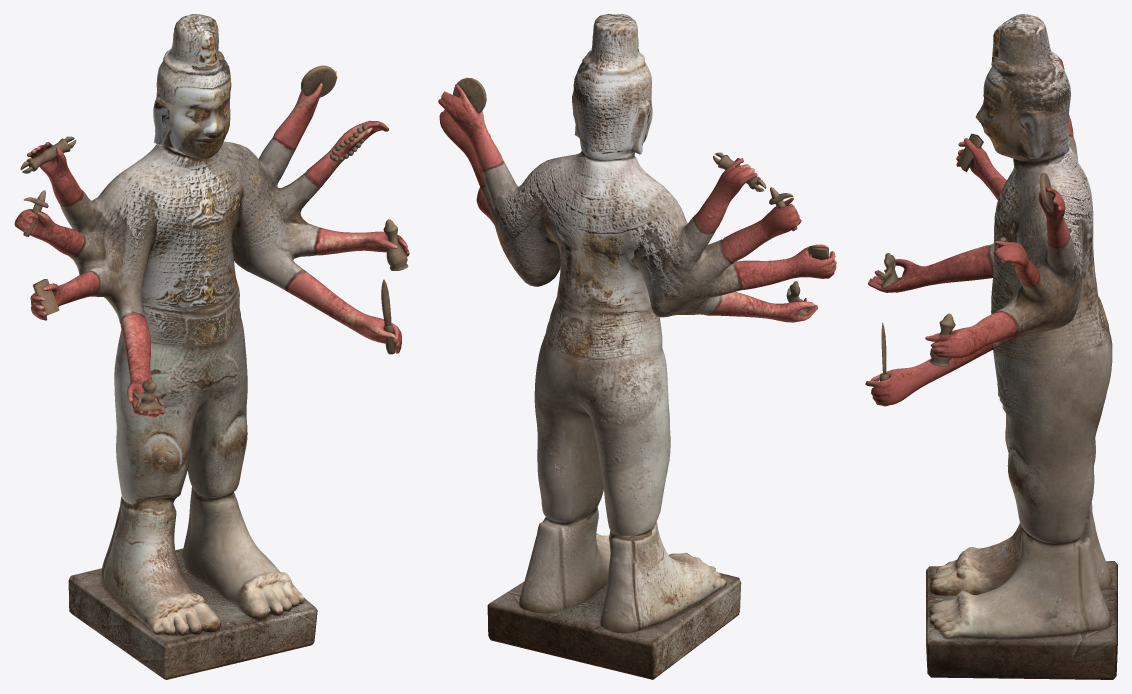
File: Statue_V3.glb
3 renders of one model, left to right at view 1: azimuth 30°, elevation 25°; view 2: azimuth 150°, elevation 25°; view 3: azimuth 270°, elevation 25°, orthographic. The views are drawn at different scales.
Visible parts, largest first — view 1: All1, Base2, Hand; view 2: All1, Base2, Hand; view 3: All1, Base2, Hand.
Part boxes in pixels (x1,y1,x2,y2): All1: (14, 14, 409, 635); Base2: (68, 548, 317, 679); Hand: (20, 65, 408, 412); All1: (438, 14, 836, 633); Base2: (487, 573, 741, 679); Hand: (453, 77, 829, 315); All1: (865, 14, 1112, 638); Base2: (926, 561, 1117, 679); Hand: (877, 133, 1053, 406).
Bounding box in the file's own units: 0.1359 × 0.2118 × 0.078.
3 materials, 3 textured.
